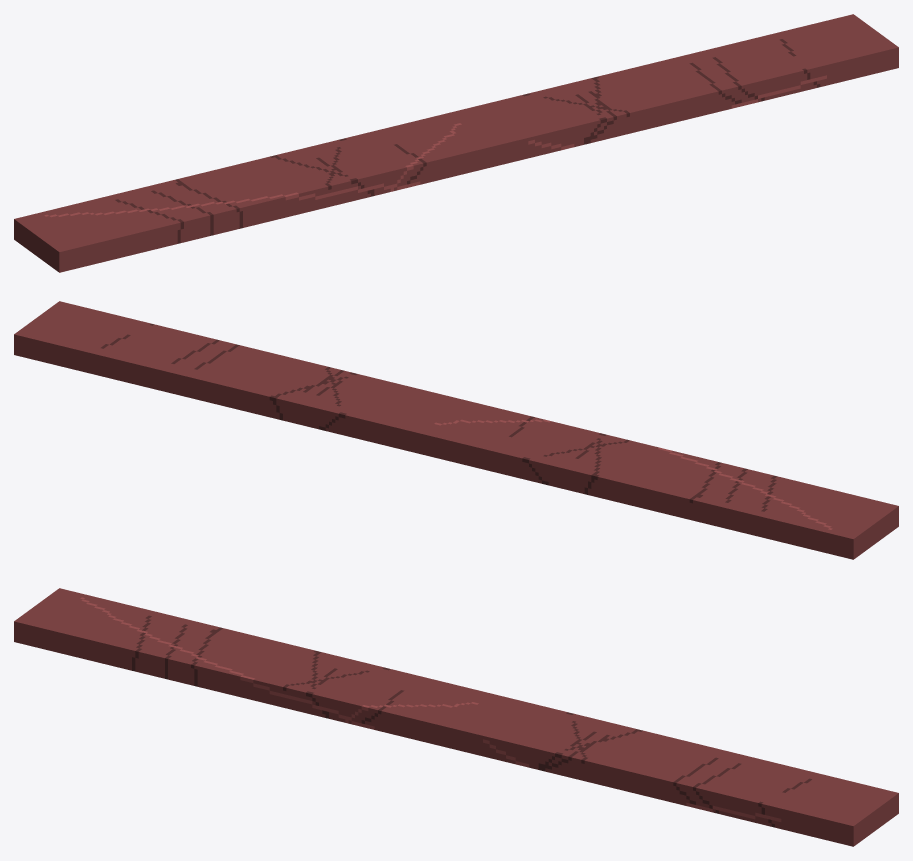
The model's file is stadium-large-complex-16.obj.
The picture shows the model from 3 angles, top to bottom: view 1: azimuth 30°, elevation 25°; view 2: azimuth 150°, elevation 25°; view 3: azimuth 330°, elevation 25°; orthographic projection.
Size of the model in its own units: 25.6 by 0.6 by 2.4.
1 material, 1 textured.
